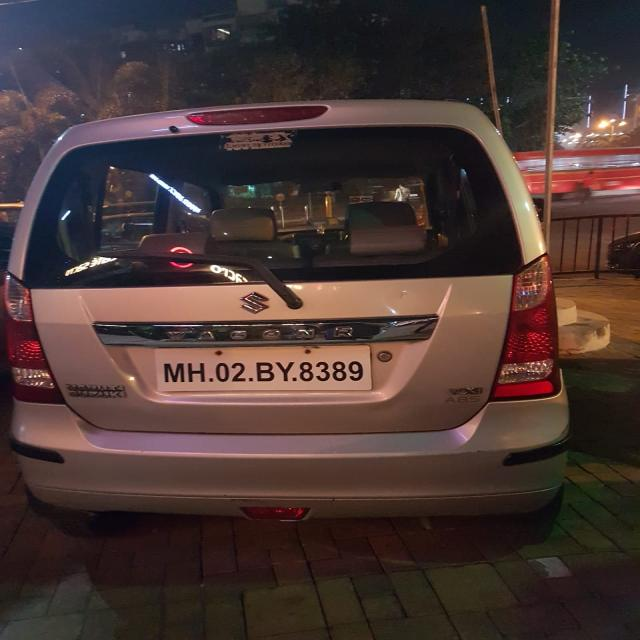Number-Plate: (154, 348, 376, 393)
